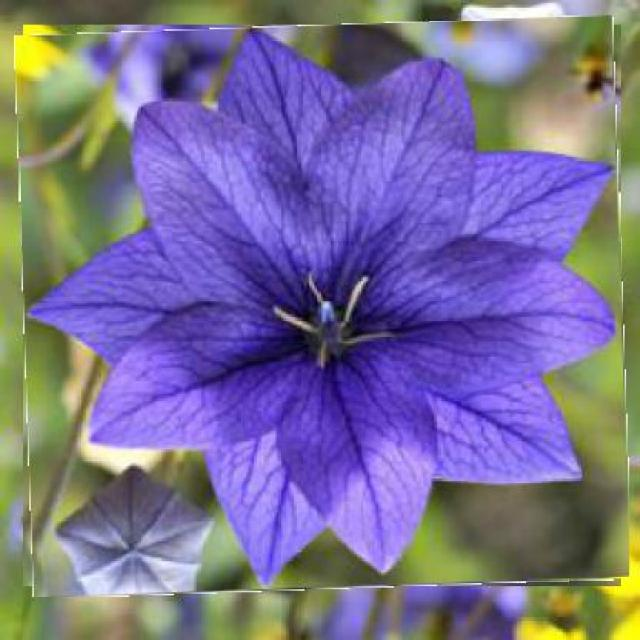Flower: (19, 20, 626, 594)
